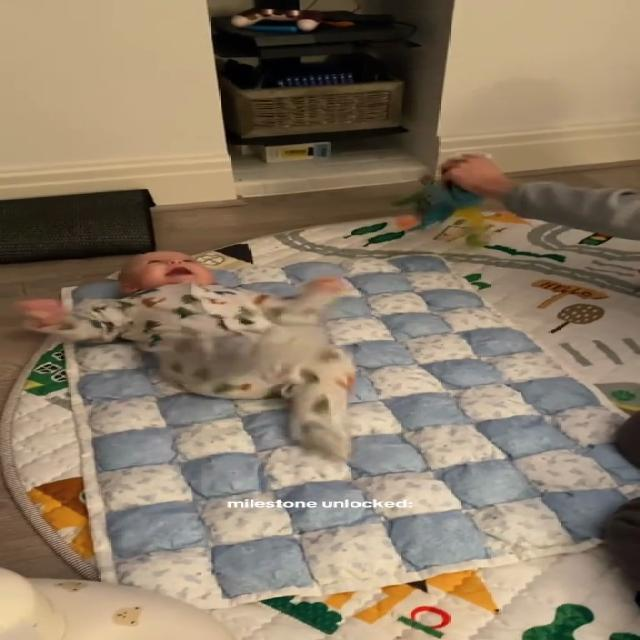baby: (15, 248, 392, 463)
